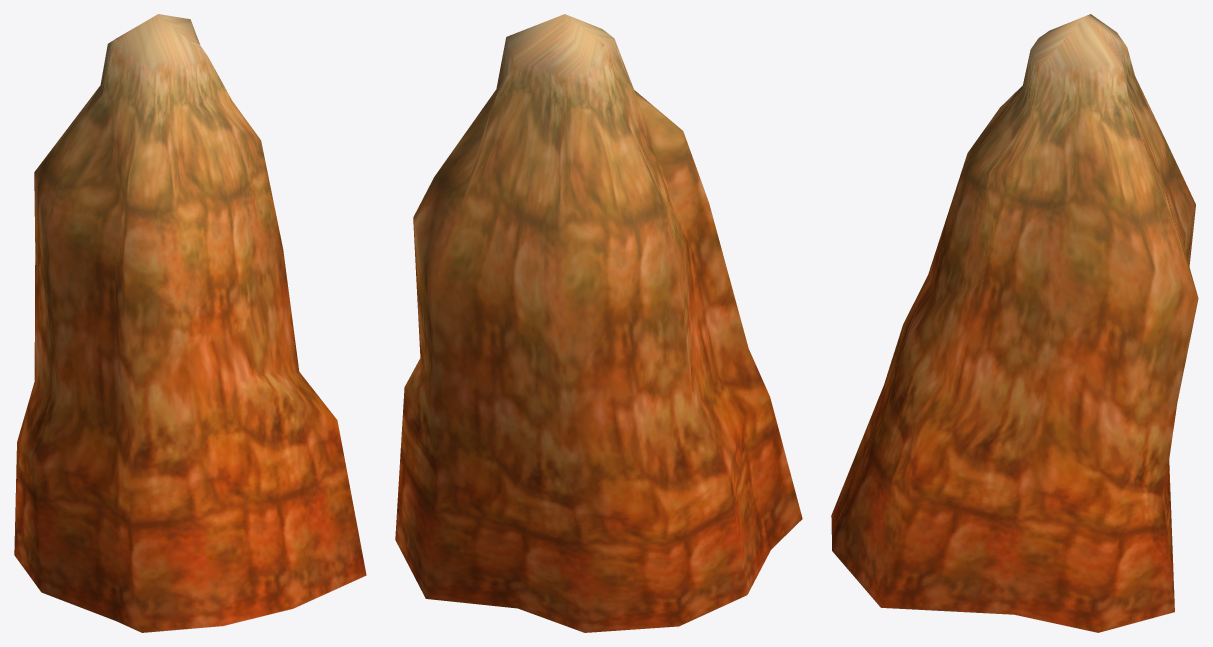
File: durotarrock07.obj
3 renders of one model, left to right at view 1: azimuth 30°, elevation 25°; view 2: azimuth 150°, elevation 25°; view 3: azimuth 270°, elevation 25°, orthographic. The views are drawn at different scales.
Visible parts, largest first — view 1: DurotarRock07; view 2: DurotarRock07; view 3: DurotarRock07.
Boxes of the visible parts, bbox=[...] form: DurotarRock07: bbox=[14, 14, 366, 632]; DurotarRock07: bbox=[395, 14, 802, 632]; DurotarRock07: bbox=[831, 14, 1198, 632].
Size of the model in its own units: 11.78 by 20.37 by 12.27.
1 material, 1 textured.
